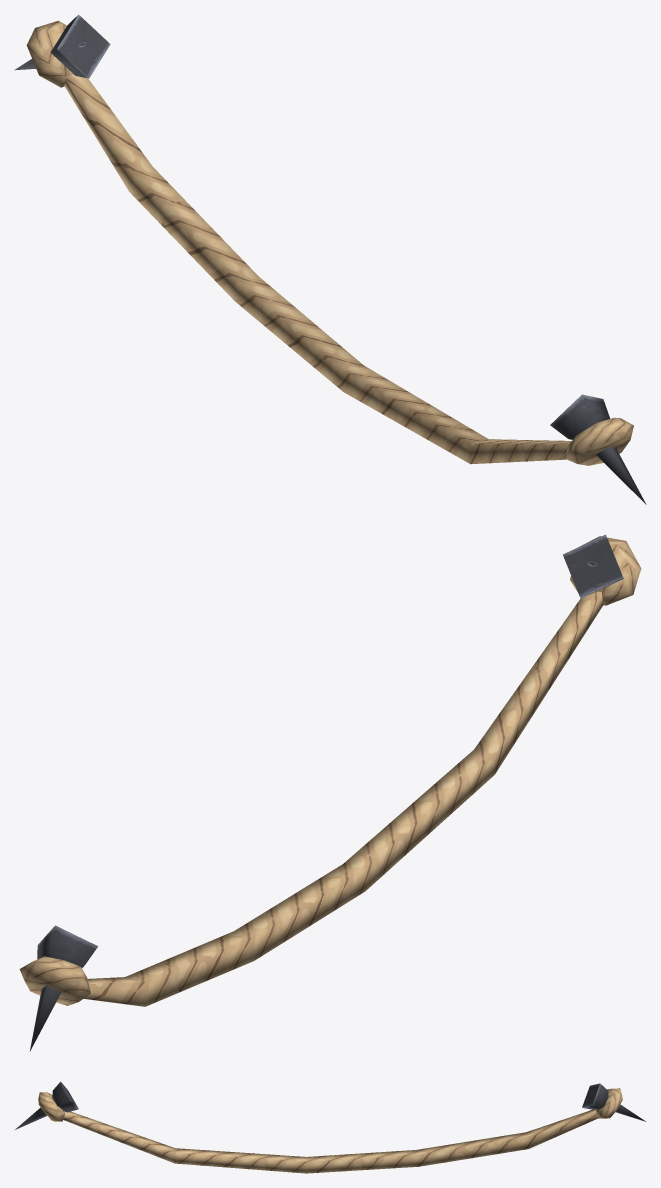
File: SM_PROP_clothesline_03.fbx
3 views of the same model, one above another, from view 1: azimuth 30°, elevation 25°; view 2: azimuth 150°, elevation 25°; view 3: azimuth 270°, elevation 25° (orthographic). The views are drawn at different scales.
Parts seen in each view (by area): view 1: SM_PROP_clothesline_03; view 2: SM_PROP_clothesline_03; view 3: SM_PROP_clothesline_03.
Boxes of the visible parts, <box> form: SM_PROP_clothesline_03: <box>14,14,646,504</box>; SM_PROP_clothesline_03: <box>19,534,641,1051</box>; SM_PROP_clothesline_03: <box>15,1081,646,1173</box>.
Bounding box in the file's own units: 18.69 × 44.83 × 290.
